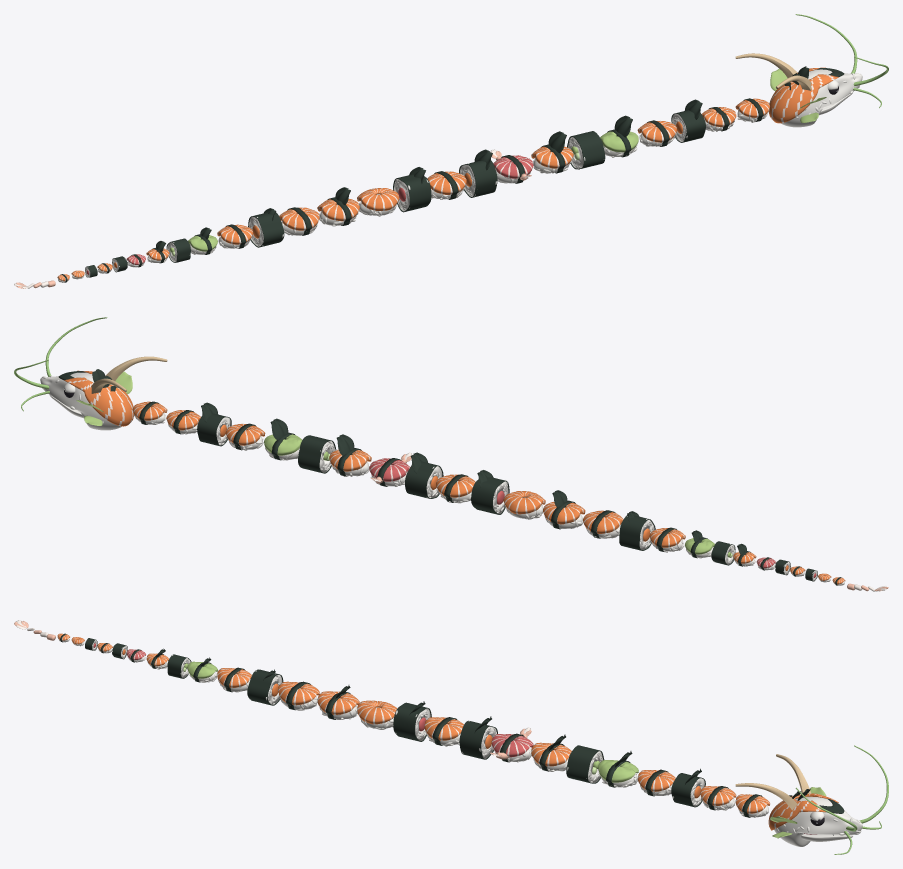
The model's file is sushi-dragon.glb.
The picture shows the model from 3 angles, top to bottom: view 1: azimuth 30°, elevation 25°; view 2: azimuth 150°, elevation 25°; view 3: azimuth 330°, elevation 25°; orthographic projection.
Parts seen in each view (by area): view 1: Head_Salmon_Hood, Head_Cranium, Maki_Nori_19, Maki_Nori_14, Maki_Nori_16, Neta_Salmon_13, Maki_Nori_10, Maki_Nori_22, Neta_Tuna_17, Neta_Salmon_11, Neta_Salmon_15, Neta_Salmon_12 (+2 smaller); view 2: Head_Salmon_Hood, Head_Cranium, Maki_Nori_19, Maki_Nori_14, Maki_Nori_16, Neta_Salmon_13, Maki_Nori_10, Maki_Nori_22, Neta_Tuna_17, Neta_Salmon_11, Neta_Salmon_15, Neta_Salmon_12 (+1 smaller); view 3: Head_Cranium, Head_Salmon_Hood, Maki_Nori_14, Maki_Nori_19, Maki_Nori_16, Neta_Salmon_13, Maki_Nori_10, Neta_Salmon_12, Maki_Nori_22, Neta_Salmon_18, Neta_Salmon_11, Neta_Salmon_15 (+4 smaller).
Boxes of the visible parts, x1,y1,x2,y2 form: Head_Salmon_Hood: (769, 67, 838, 123); Head_Cranium: (781, 69, 862, 127); Maki_Nori_19: (567, 131, 605, 169); Maki_Nori_14: (393, 174, 431, 212); Maki_Nori_16: (459, 160, 497, 197); Neta_Salmon_13: (357, 188, 399, 210); Maki_Nori_10: (248, 212, 284, 247); Maki_Nori_22: (671, 110, 705, 142); Neta_Tuna_17: (493, 155, 533, 178); Neta_Salmon_11: (279, 207, 319, 230); Neta_Salmon_15: (427, 171, 466, 194); Neta_Salmon_12: (317, 198, 359, 221); Head_Salmon_Hood: (64, 370, 133, 426); Head_Cranium: (40, 372, 121, 430); Maki_Nori_19: (298, 435, 336, 473); Maki_Nori_14: (471, 477, 509, 514); Maki_Nori_16: (405, 461, 443, 498); Neta_Salmon_13: (503, 491, 545, 514); Maki_Nori_10: (619, 515, 655, 550); Maki_Nori_22: (197, 413, 231, 446); Neta_Tuna_17: (369, 458, 410, 481); Neta_Salmon_11: (583, 510, 623, 533); Neta_Salmon_15: (436, 474, 475, 497); Neta_Salmon_12: (543, 501, 585, 524); Head_Cranium: (774, 797, 862, 846); Head_Salmon_Hood: (768, 793, 838, 830); Maki_Nori_14: (393, 702, 431, 741); Maki_Nori_19: (566, 745, 604, 783); Maki_Nori_16: (459, 720, 497, 759); Neta_Salmon_13: (357, 700, 397, 724); Maki_Nori_10: (247, 669, 283, 705); Neta_Salmon_12: (317, 691, 359, 714); Maki_Nori_22: (671, 773, 705, 807); Neta_Salmon_18: (531, 742, 571, 766); Neta_Salmon_11: (278, 681, 319, 705); Neta_Salmon_15: (424, 717, 463, 740).
Size of the model in its own units: 1.96 by 0.1837 by 0.2499.
